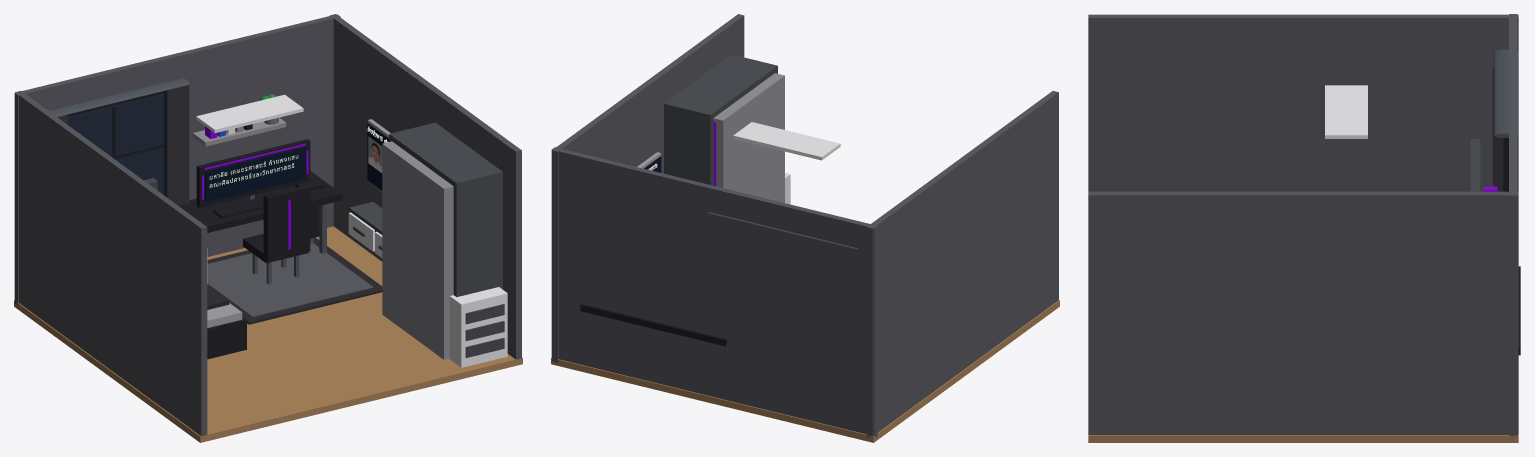
File: BEDROOM18.glb
The picture shows the model from 3 angles, left to right: view 1: azimuth 30°, elevation 25°; view 2: azimuth 150°, elevation 25°; view 3: azimuth 270°, elevation 25°; orthographic projection. The views are drawn at different scales.
Parts seen in each view (by area): view 1: LEFT_WALL, FLOOR, BACK_WALL, RIGHT_WALL, WARDROBE_DOOR_1, WARDROBE_BODY, WORK_RUG_BORDER, WINDOW_GLASS, CHAIR_BACK, MONITOR_SCREEN, CURTAIN_RIGHT, DRAWER_UNIT (+15 smaller); view 2: BACK_WALL, LEFT_WALL, RIGHT_WALL, WARDROBE_BODY, WARDROBE_DOOR_1, FLOOR, CEILING_LIGHT, GAMING_DESK; view 3: RIGHT_WALL, LEFT_WALL, BACK_WALL, FLOOR, CEILING_LIGHT, CURTAIN_ROD, BED_HEADBOARD, CURTAIN_RIGHT.
Boxes of the visible parts, x1,y1,x2,y2 form: LEFT_WALL: [15, 91, 207, 436]; FLOOR: [14, 226, 522, 442]; BACK_WALL: [14, 14, 340, 305]; RIGHT_WALL: [329, 14, 521, 359]; WARDROBE_DOOR_1: [382, 141, 453, 359]; WARDROBE_BODY: [389, 122, 502, 296]; WORK_RUG_BORDER: [207, 243, 373, 317]; WINDOW_GLASS: [68, 94, 163, 194]; CHAIR_BACK: [263, 185, 310, 261]; MONITOR_SCREEN: [205, 147, 305, 202]; CURTAIN_RIGHT: [163, 85, 189, 205]; DRAWER_UNIT: [449, 287, 507, 367]; BACK_WALL: [551, 147, 877, 438]; LEFT_WALL: [866, 91, 1058, 437]; RIGHT_WALL: [552, 14, 744, 362]; WARDROBE_BODY: [664, 54, 777, 185]; WARDROBE_DOOR_1: [713, 73, 784, 202]; FLOOR: [551, 300, 1059, 442]; CEILING_LIGHT: [733, 122, 840, 160]; GAMING_DESK: [580, 304, 726, 346]; RIGHT_WALL: [1088, 191, 1518, 434]; LEFT_WALL: [1088, 14, 1518, 191]; BACK_WALL: [1509, 14, 1517, 438]; FLOOR: [1088, 435, 1518, 442]; CEILING_LIGHT: [1325, 85, 1367, 138]; CURTAIN_ROD: [1494, 49, 1518, 137]; BED_HEADBOARD: [1470, 139, 1480, 191]; CURTAIN_RIGHT: [1494, 137, 1502, 191].
Bounding box in the file's own units: 8 × 5.08 × 8.04.
Materials: 29 (1 with a texture image).
